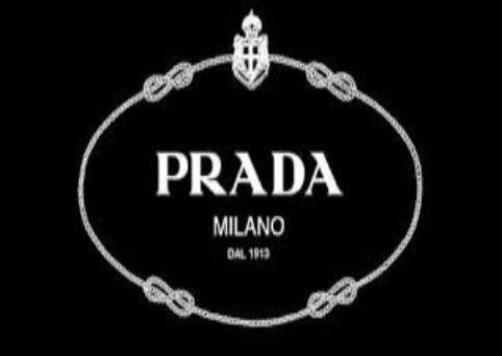PRADA: (155, 138, 344, 205)
